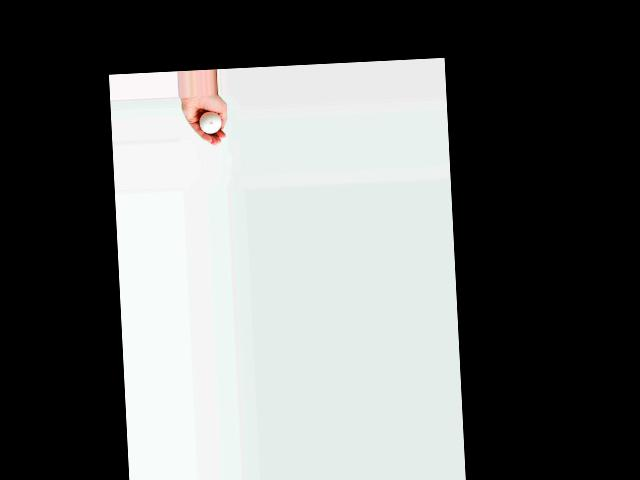egg: (198, 111, 221, 134)
